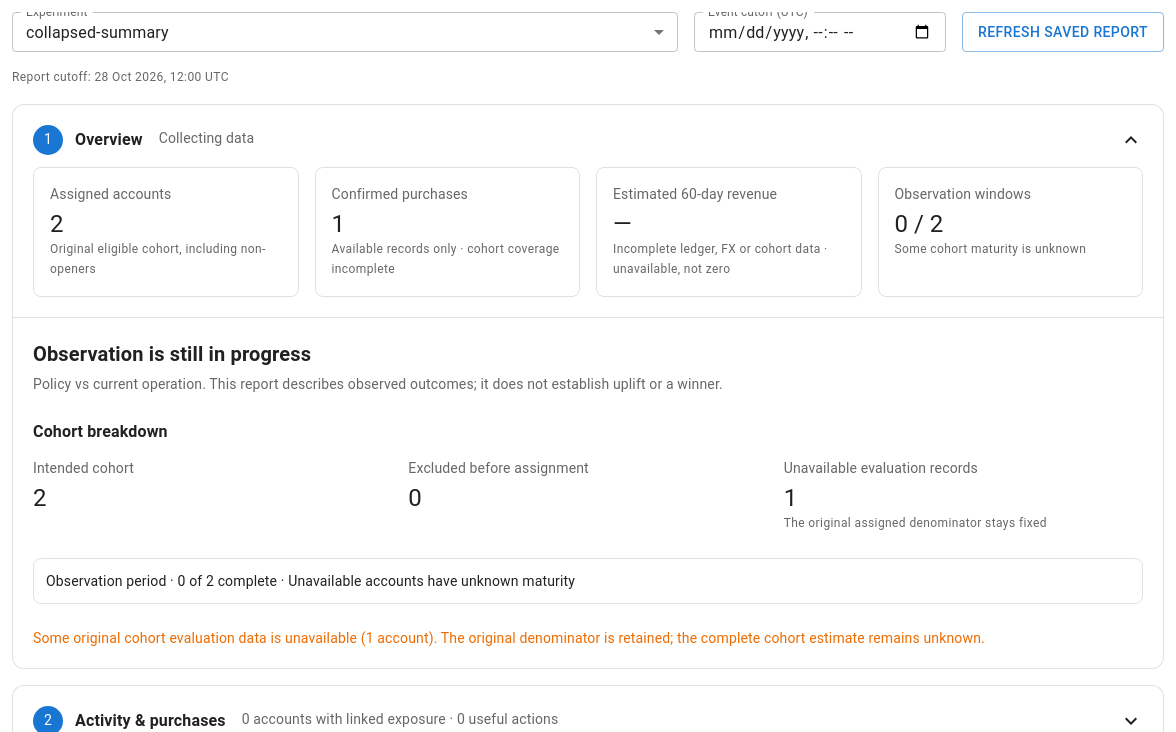
Test: keeps the main outcome metrics visible when Overview is collapsed, with breakdown on expansion
Expected: the text "Assigned accounts" is shown, [50,186,171,202]
Click the heading that starts with "Overview" at (588,305), box [13,105,1163,318]
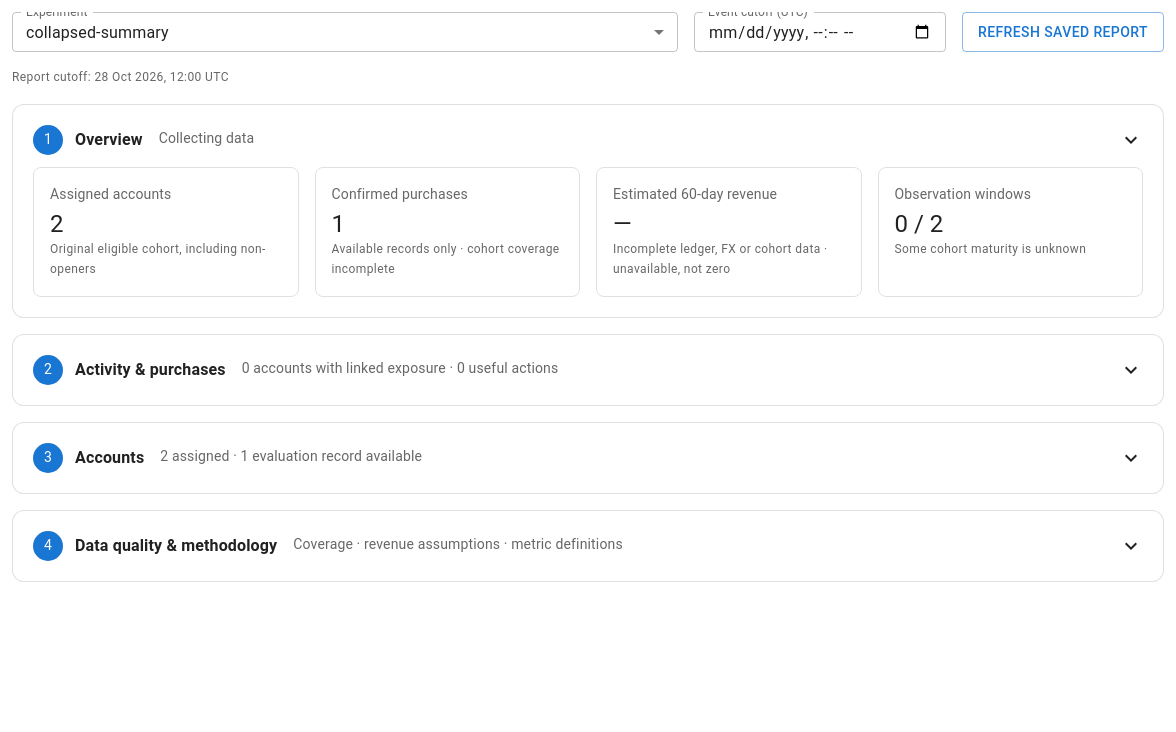
Expected: the text "Assigned accounts" is shown, [50,186,171,202]
Expected: the heading "Observation is still in progress" is gone
Click the heading that starts with "Overview" at (588,304), box [13,105,1163,317]
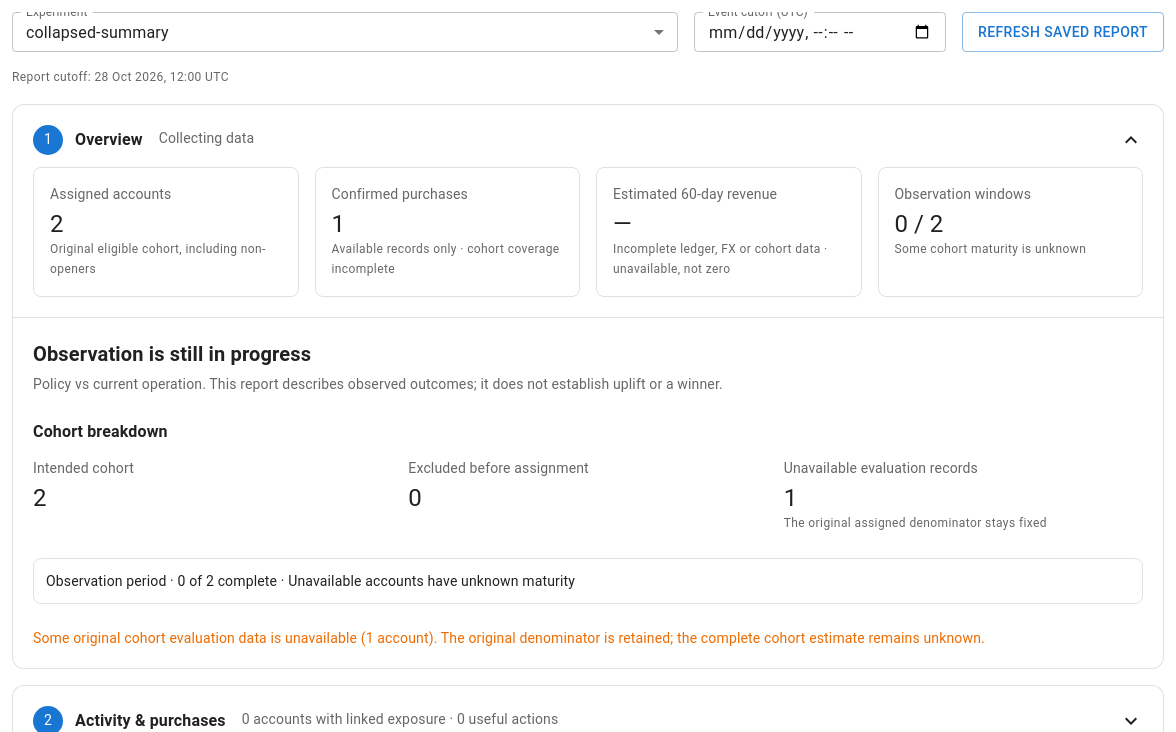
Expected: the text "Assigned accounts" is shown once, [50,186,171,202]
Expected: the heading "Cohort breakdown" is shown, [33,422,168,441]
